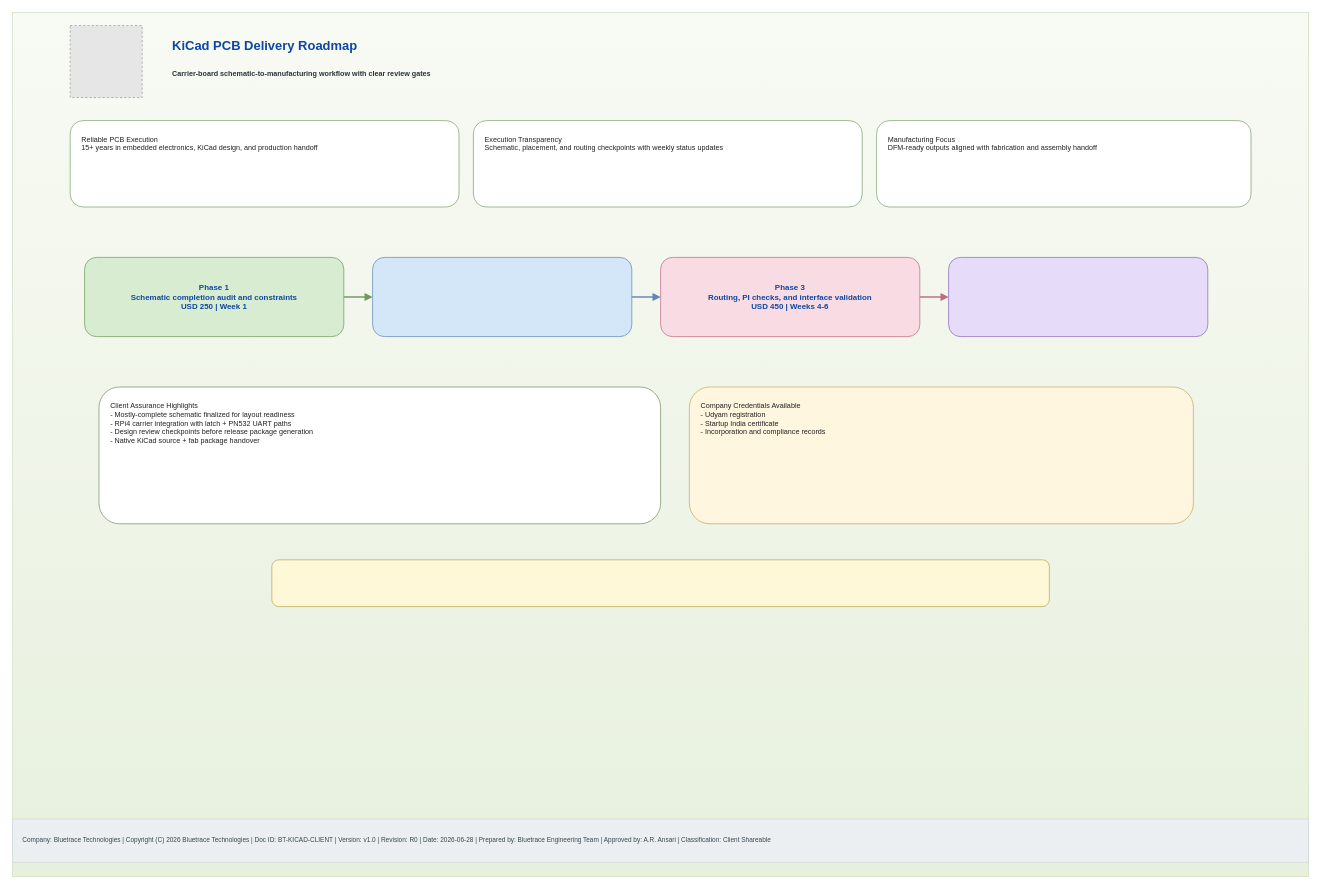
Image size: 1321x889. Some labels were removed from this diagram. Grey dashed boxes stand in for pictures. The shapes that lost their labels are listed below. From the top down, each one's centre as x and y in pixels, then its label:
At point 502,297: "Phase 2 Placement and stack-up strategy (100 x 80 mm) USD 400 | Weeks 2-3".
At point 1078,297: "Phase 4 Manufacturing outputs and handoff release USD 300 | Weeks 7-8".
At point 660,583: "Estimated Overall Timeline: 1 to 3 months".
